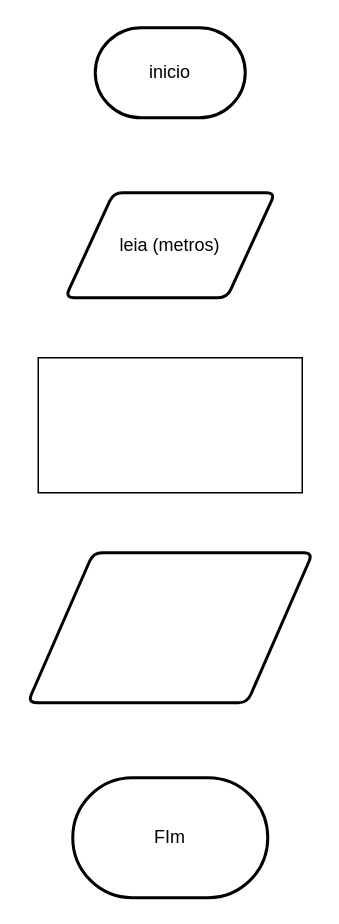
Some shapes in this 339 by 924 pixel diagram are drawn without their labels. The box of each missing label's shape, as (x1, y1, x2, y2) in pixels:
centimetros = metros * 100: (37, 356, 302, 493)
escreva("Equivale a ", centimetros, "\n"): (26, 550, 314, 704)
